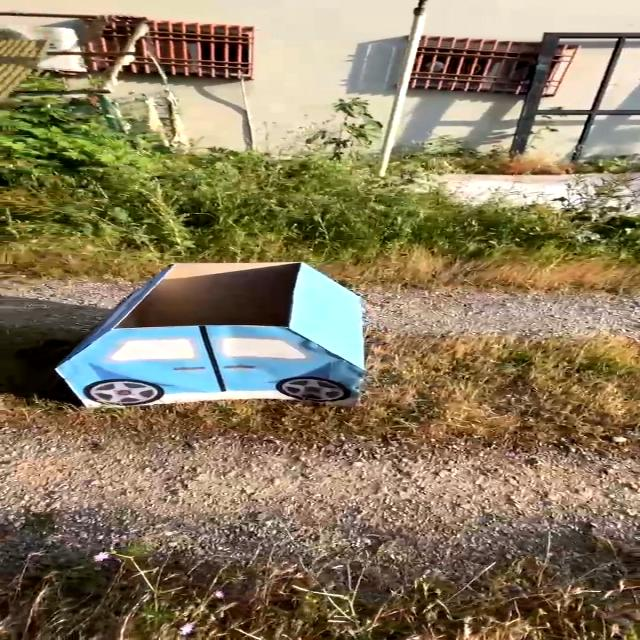blue_car: (0, 220, 420, 445)
